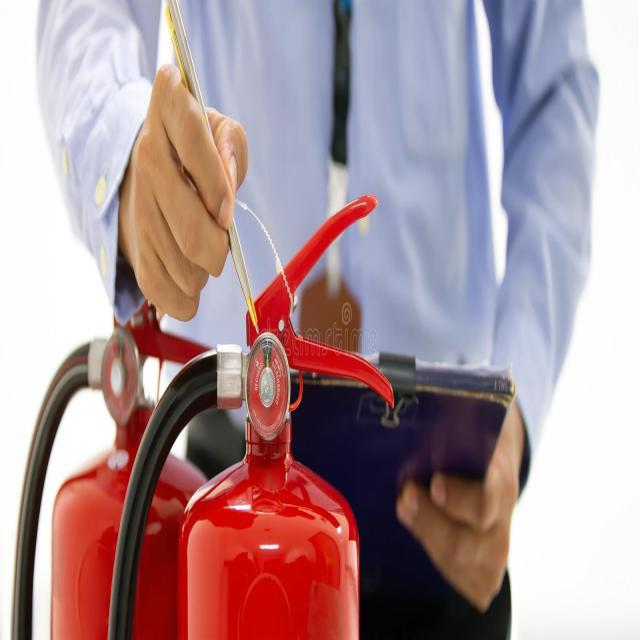fire_extinguisher: (102, 184, 398, 639), (4, 174, 237, 639)
